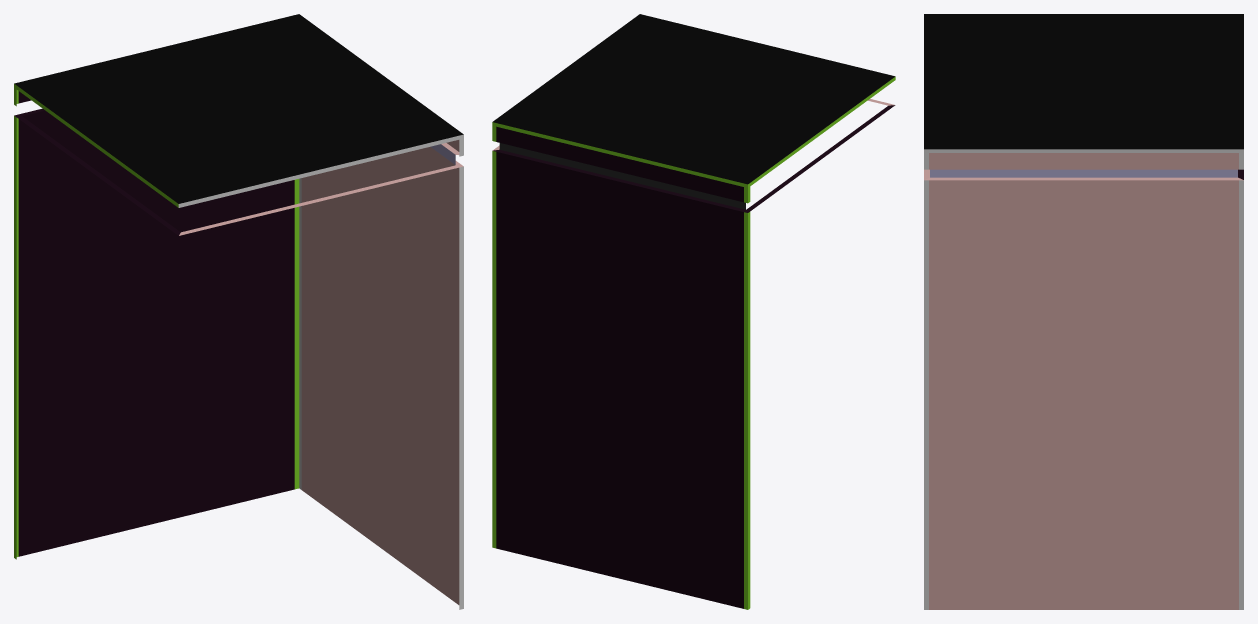
Rendered from SimplePlatformNoFaces.fbx.
3 views of the same model, side by side, from view 1: azimuth 30°, elevation 25°; view 2: azimuth 150°, elevation 25°; view 3: azimuth 270°, elevation 25° (orthographic). The views are drawn at different scales.
Parts seen in each view (by area): view 1: Cube; view 2: Cube; view 3: Cube.
Boxes of the visible parts, left/top/right/bottom form: Cube: left=14, top=14, right=463, bottom=609; Cube: left=492, top=14, right=895, bottom=609; Cube: left=924, top=14, right=1243, bottom=609.
Bounding box in the file's own units: 2 × 3.18 × 2.
